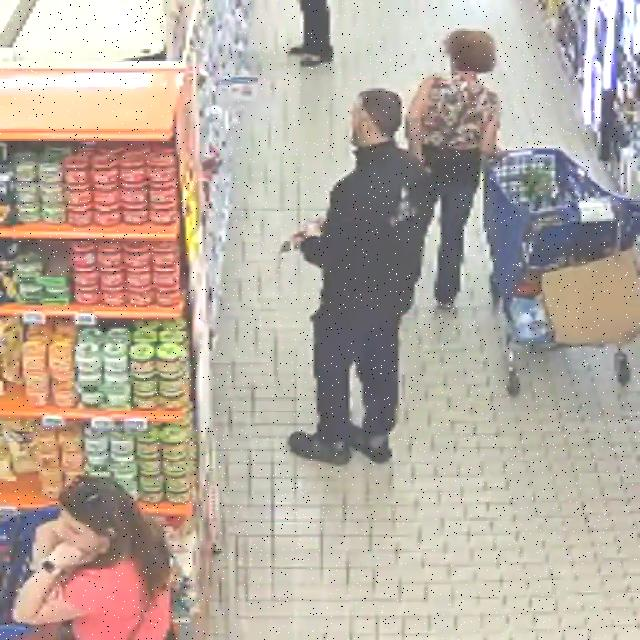article: (277, 229, 306, 256)
hands: (49, 543, 95, 569), (33, 519, 62, 560), (292, 218, 324, 248)
person: (289, 89, 433, 465), (14, 478, 172, 639), (408, 29, 499, 308)
